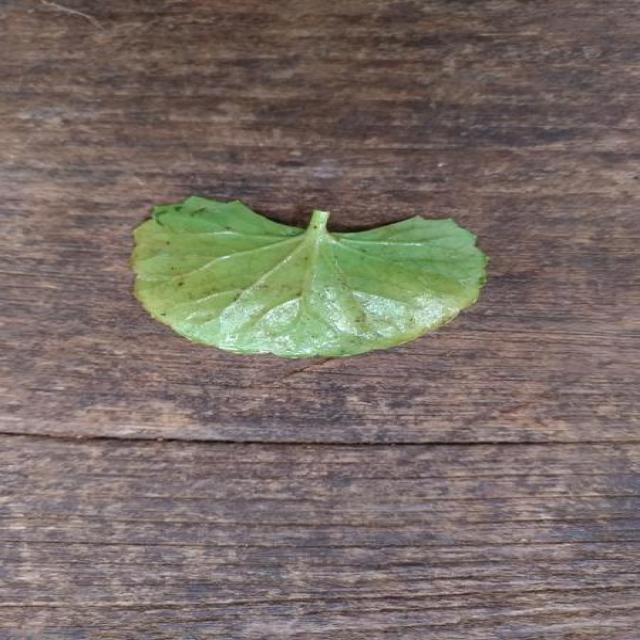bhrami: (132, 196, 487, 357)
